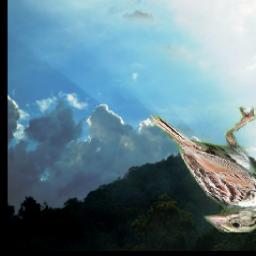Sparrow: (149, 106, 256, 232)
